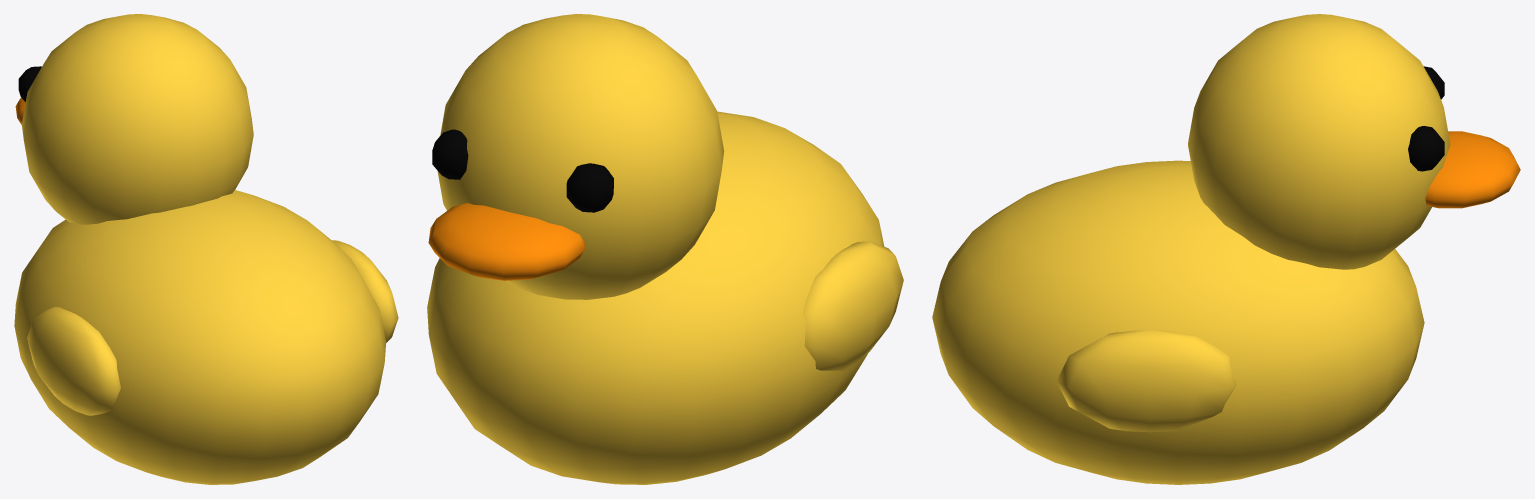
The model's file is x_hat_duck.glb.
3 views of the same model, side by side, from view 1: azimuth 30°, elevation 25°; view 2: azimuth 150°, elevation 25°; view 3: azimuth 270°, elevation 25° (orthographic). The views are drawn at different scales.
Visible parts, largest first — view 1: hat_body.008, hat_eyes; view 2: hat_body.008, hat_beak, hat_eyes; view 3: hat_body.008, hat_beak, hat_eyes.
Part boxes in pixels (x1,y1,x2,y2): hat_body.008: [14, 14, 398, 484]; hat_eyes: [18, 66, 41, 101]; hat_body.008: [427, 14, 903, 484]; hat_beak: [428, 203, 585, 280]; hat_eyes: [432, 129, 613, 212]; hat_body.008: [932, 14, 1450, 484]; hat_beak: [1425, 131, 1520, 208]; hat_eyes: [1408, 66, 1444, 171].
Size of the model in its own units: 0.9 by 1.03 by 1.25.
